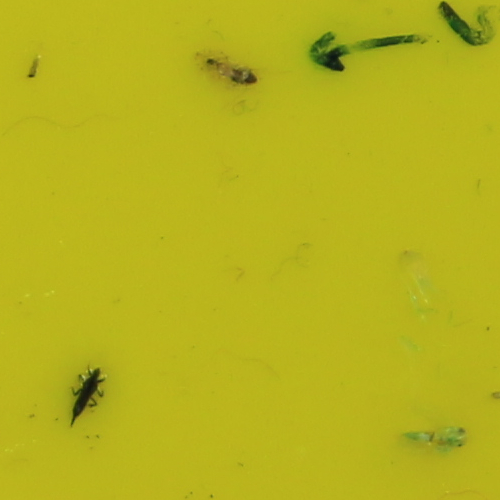cicada: (441, 426, 471, 450)
